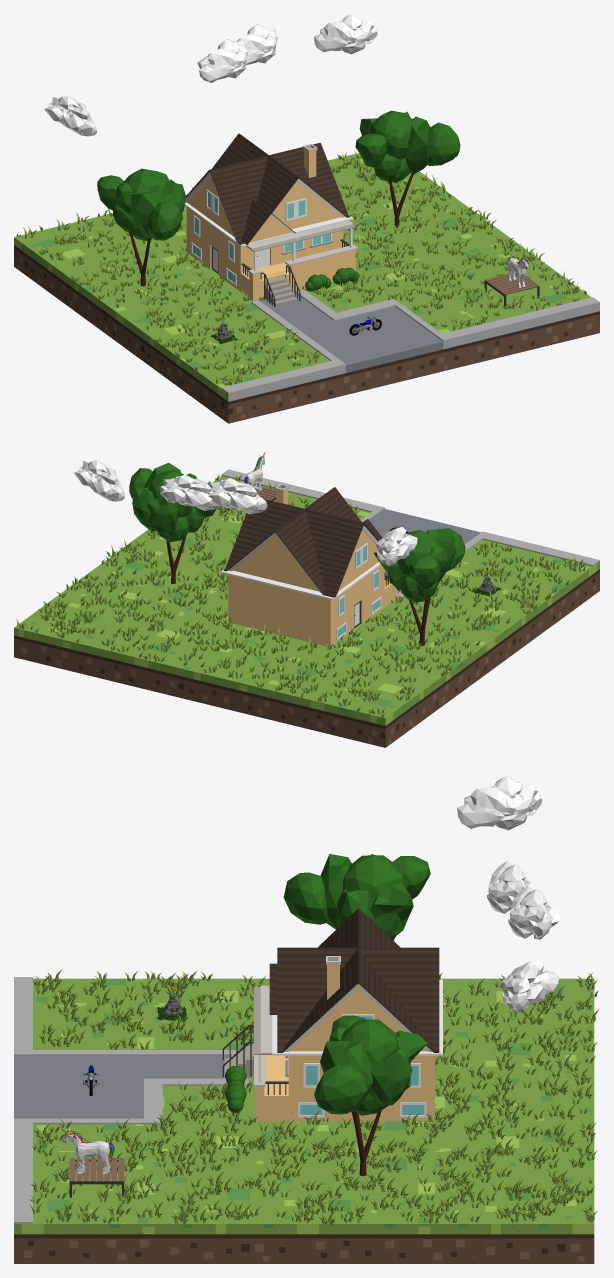
3 renders of one model, top to bottom at view 1: azimuth 30°, elevation 25°; view 2: azimuth 150°, elevation 25°; view 3: azimuth 270°, elevation 25°, orthographic. The views are drawn at different scales.
Visible parts, largest first — view 1: Cube.006, Cube.235, Circle.012_Grass_0.192, Cube.007, tree, tree.001, Cube.009; view 2: Cube.006, Cube.235, Circle.012_Grass_0.192, Cube.007, tree.001, tree, ANIMAL_UNICORNIO; view 3: Cube.006, Circle.012_Grass_0.192, Cube.235, tree, Cube.007, tree.001, Cube.009, ANIMAL_UNICORNIO.
Part boxes in pixels (x1,y1,x2,y2): Cube.006: (14, 153, 599, 423); Cube.235: (184, 133, 358, 307); Circle.012_Grass_0.192: (16, 150, 586, 385); Cube.007: (44, 14, 377, 136); tree: (355, 110, 460, 227); tree.001: (97, 168, 185, 286); Cube.009: (484, 272, 539, 306); Cube.006: (14, 469, 599, 747); Cube.235: (220, 484, 397, 646); Circle.012_Grass_0.192: (16, 475, 586, 717); Cube.007: (74, 460, 417, 566); tree.001: (374, 528, 465, 645); tree: (129, 462, 216, 583); ANIMAL_UNICORNIO: (244, 452, 265, 490); Cube.006: (14, 977, 594, 1263); Circle.012_Grass_0.192: (29, 969, 599, 1225); Cube.235: (222, 909, 442, 1121); tree: (314, 1015, 427, 1176); Cube.007: (457, 776, 559, 1012); tree.001: (283, 854, 430, 940); Cube.009: (69, 1157, 123, 1197); ANIMAL_UNICORNIO: (61, 1128, 114, 1173).
Bounding box in the file's own units: 4071 × 2277 × 4040.
44 materials, 3 textured.
